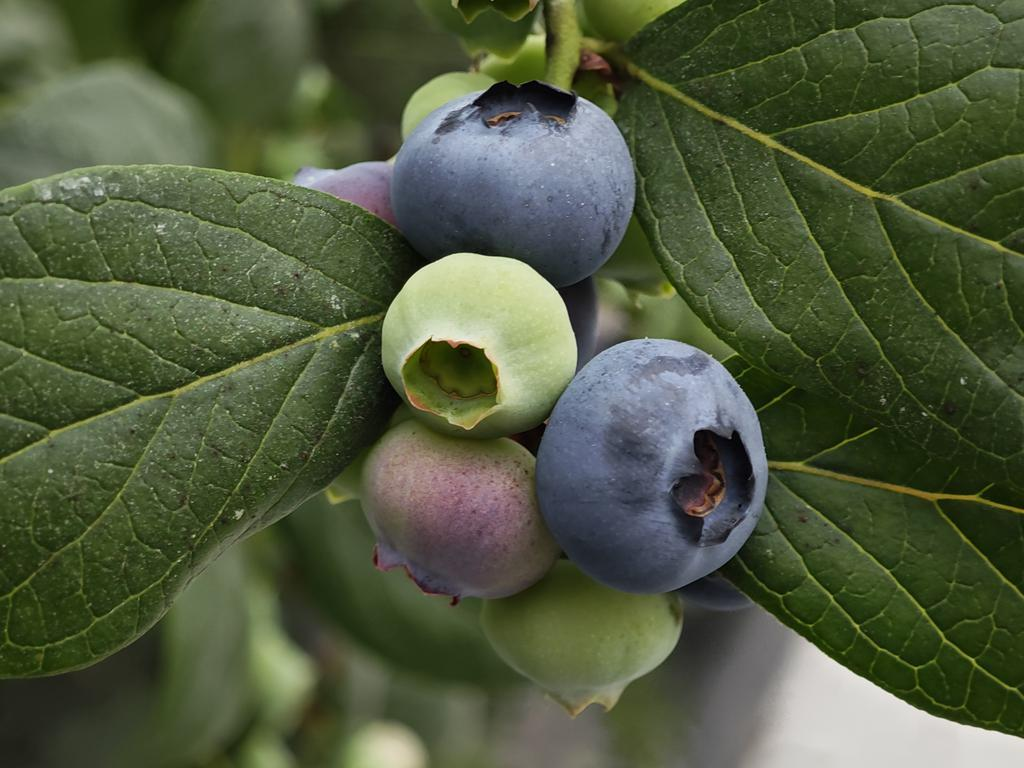RipeBlueBerry: (540, 336, 769, 594), (397, 86, 634, 263)
Semi-RipeBlueBerry: (362, 432, 549, 599)
UnripeBlueBerry: (382, 254, 573, 439)
